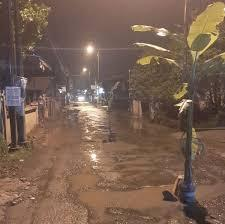Pothole: (64, 165, 176, 222), (41, 119, 101, 177), (116, 125, 178, 174), (192, 160, 225, 202), (68, 88, 95, 120)
